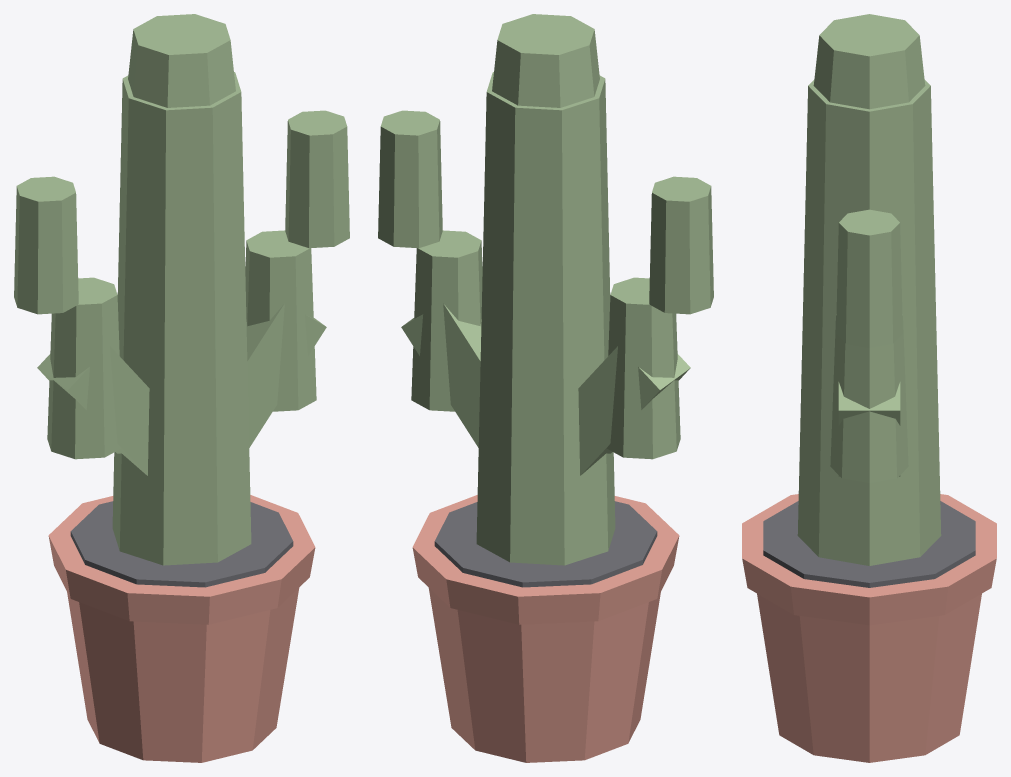
Rendered from retro-diner-and-roadside-motel-cactus-in-pot-ce48365d__37367.glb.
The picture shows the model from 3 angles, left to right: view 1: azimuth 30°, elevation 25°; view 2: azimuth 150°, elevation 25°; view 3: azimuth 270°, elevation 25°; orthographic projection.
Visible parts, largest first — view 1: cactus-in-pot-sage, cactus-in-pot-coral, cactus-in-pot-asphalt; view 2: cactus-in-pot-sage, cactus-in-pot-coral, cactus-in-pot-asphalt; view 3: cactus-in-pot-sage, cactus-in-pot-coral, cactus-in-pot-asphalt.
Boxes of the visible parts, x1=… form: cactus-in-pot-sage: x1=14, y1=14, x2=349, y2=565; cactus-in-pot-coral: x1=48, y1=495, x2=315, y2=762; cactus-in-pot-asphalt: x1=70, y1=501, x2=293, y2=587; cactus-in-pot-sage: x1=378, y1=14, x2=713, y2=565; cactus-in-pot-coral: x1=412, y1=495, x2=679, y2=762; cactus-in-pot-asphalt: x1=434, y1=501, x2=657, y2=587; cactus-in-pot-sage: x1=797, y1=14, x2=941, y2=565; cactus-in-pot-coral: x1=742, y1=494, x2=996, y2=762; cactus-in-pot-asphalt: x1=763, y1=501, x2=975, y2=587.
Size of the model in its own units: 0.6801 by 1.36 by 0.4565.
